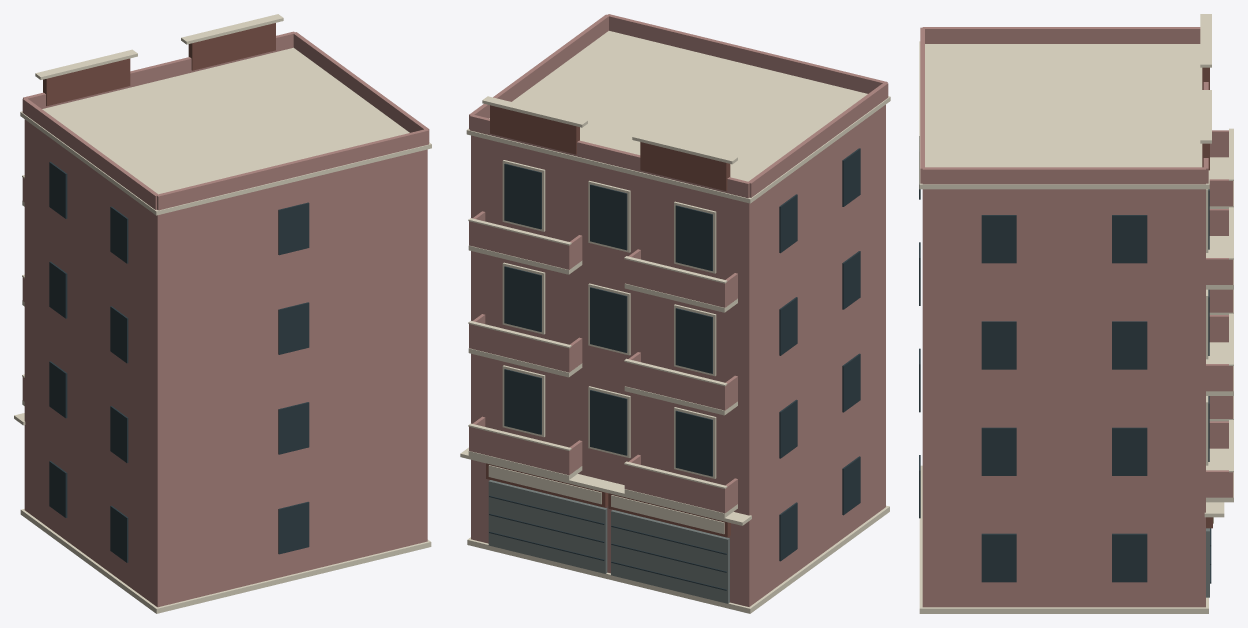
The model's file is KOL_T3_MIX_02.fbx.
3 renders of one model, left to right at view 1: azimuth 30°, elevation 25°; view 2: azimuth 150°, elevation 25°; view 3: azimuth 270°, elevation 25°, orthographic. The views are drawn at different scales.
Parts seen in each view (by area): view 1: KOL_T3_MIX_02__Body, KOL_T3_MIX_02__Trim, KOL_T3_MIX_02__Dark, KOL_T3_MIX_02__Accent; view 2: KOL_T3_MIX_02__Body, KOL_T3_MIX_02__Trim, KOL_T3_MIX_02__Dark, KOL_T3_MIX_02__Roof, KOL_T3_MIX_02__Accent; view 3: KOL_T3_MIX_02__Body, KOL_T3_MIX_02__Trim, KOL_T3_MIX_02__Dark.
Boxes of the visible parts, x1,y1,x2,y2 form: KOL_T3_MIX_02__Body: (22, 31, 429, 607); KOL_T3_MIX_02__Trim: (14, 14, 431, 613); KOL_T3_MIX_02__Dark: (49, 161, 309, 562); KOL_T3_MIX_02__Accent: (43, 23, 275, 106); KOL_T3_MIX_02__Body: (469, 14, 888, 606); KOL_T3_MIX_02__Trim: (460, 31, 890, 613); KOL_T3_MIX_02__Dark: (489, 148, 860, 590); KOL_T3_MIX_02__Roof: (488, 480, 729, 603); KOL_T3_MIX_02__Accent: (486, 105, 730, 537); KOL_T3_MIX_02__Body: (920, 27, 1233, 607); KOL_T3_MIX_02__Trim: (919, 14, 1233, 613); KOL_T3_MIX_02__Dark: (919, 136, 1211, 583).
Size of the model in its own units: 34.74 by 52.53 by 32.22.
